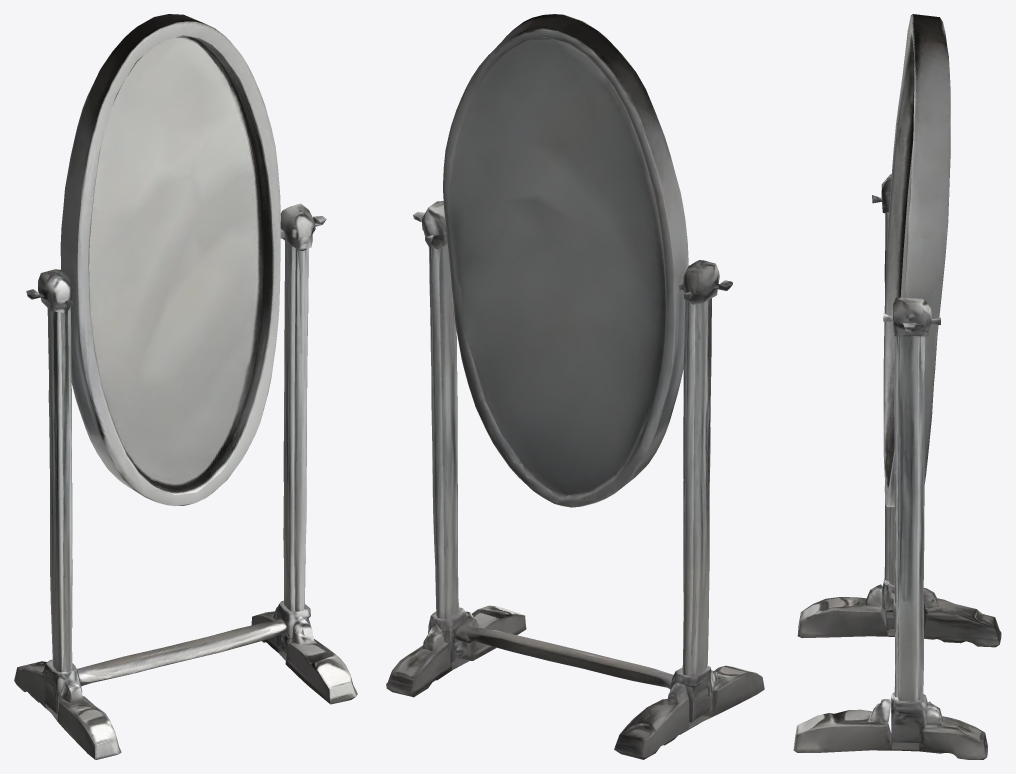
The model's file is m2MirrorStand.glb.
3 renders of one model, left to right at view 1: azimuth 30°, elevation 25°; view 2: azimuth 150°, elevation 25°; view 3: azimuth 270°, elevation 25°, orthographic. The views are drawn at different scales.
Visible parts, largest first — view 1: model; view 2: model; view 3: model.
Part boxes in pixels (left/top/right/bottom): model: left=14, top=14, right=357, bottom=759; model: left=386, top=14, right=764, bottom=759; model: left=793, top=14, right=1001, bottom=759.
Bounding box in the file's own units: 0.9059 × 1.9 × 0.5324.
1 material, 1 textured.
